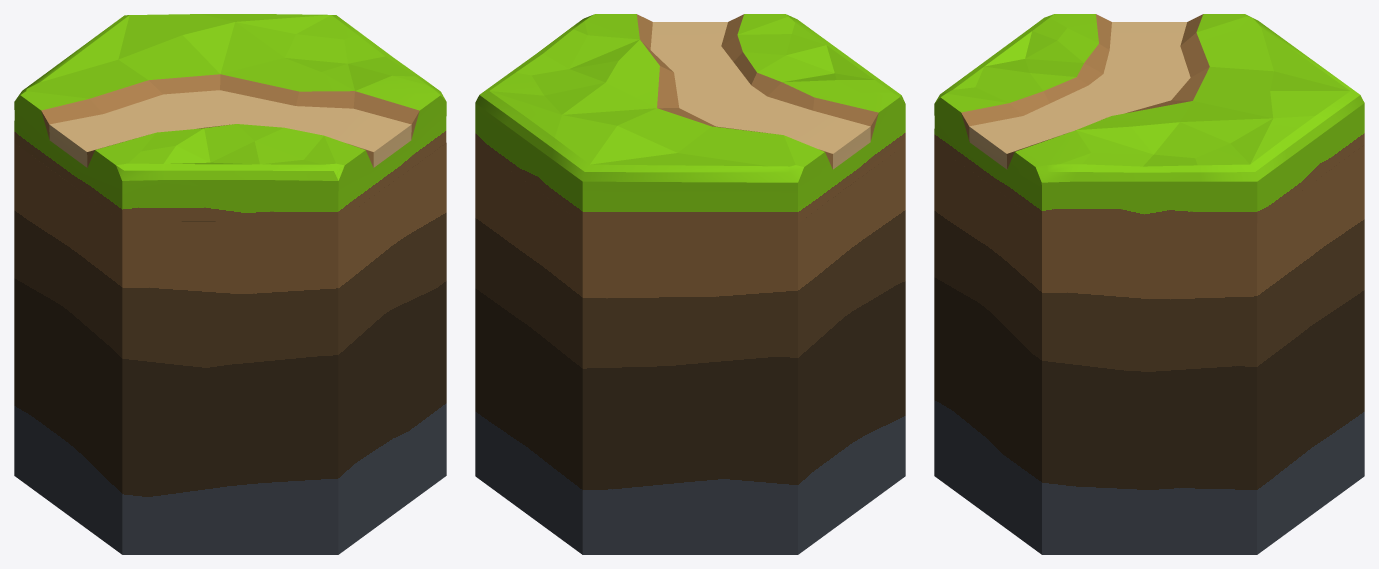
File: HexTilePath_Curved1.glb
The picture shows the model from 3 angles, left to right: view 1: azimuth 30°, elevation 25°; view 2: azimuth 150°, elevation 25°; view 3: azimuth 270°, elevation 25°; orthographic projection.
Visible parts, largest first — view 1: HexTilePath_Curved01; view 2: HexTilePath_Curved01; view 3: HexTilePath_Curved01.
Boxes of the visible parts, x1=… form: HexTilePath_Curved01: x1=14, y1=14, x2=446, y2=554; HexTilePath_Curved01: x1=475, y1=14, x2=905, y2=554; HexTilePath_Curved01: x1=934, y1=14, x2=1364, y2=554.
Size of the model in its own units: 1.73 by 2.01 by 2.
1 material, 1 textured.
